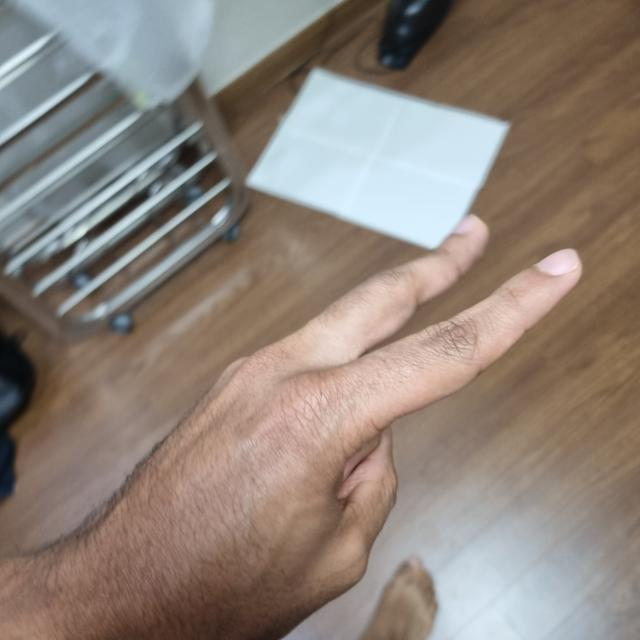Scissors: (59, 218, 578, 639)
